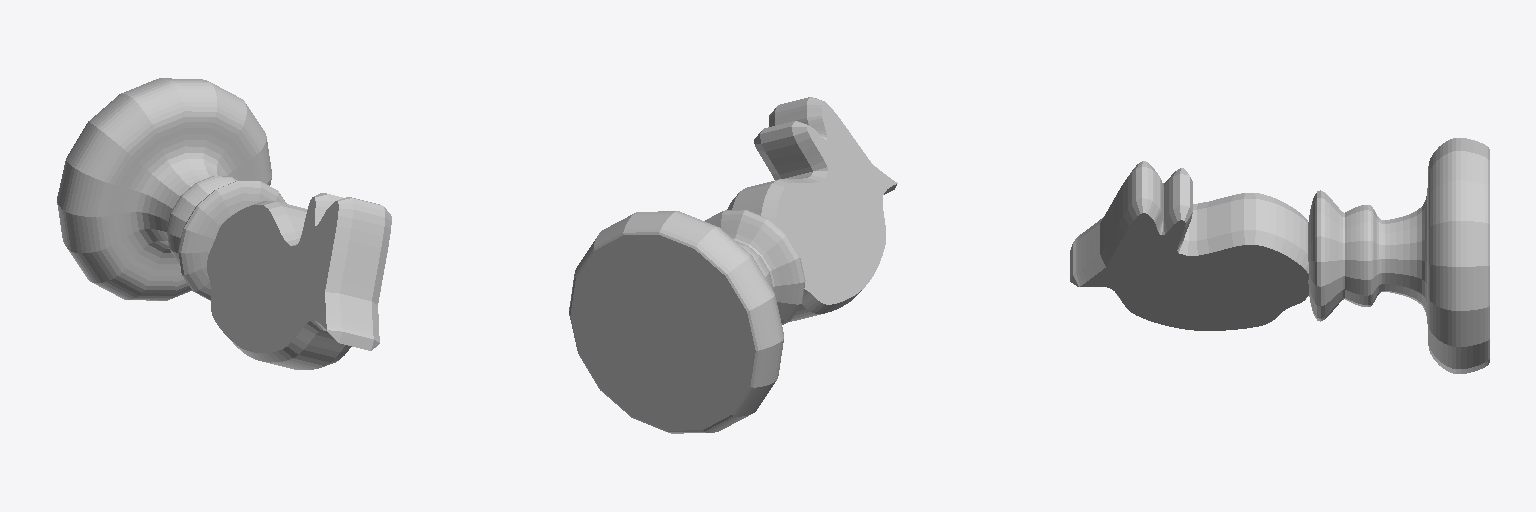
The model's file is knight.obj.
3 renders of one model, left to right at view 1: azimuth 30°, elevation 25°; view 2: azimuth 150°, elevation 25°; view 3: azimuth 270°, elevation 25°, orthographic.
Visible parts, largest first — view 1: Mesh_Mesh.003_White_Hor0, Mesh.001_Mesh.020_White_Had0; view 2: Mesh_Mesh.003_White_Hor0, Mesh.001_Mesh.020_White_Had0; view 3: Mesh.001_Mesh.020_White_Had0, Mesh_Mesh.003_White_Hor0.
Boxes of the visible parts, box(x1,y1,x2,y2) form: Mesh_Mesh.003_White_Hor0: box(57, 78, 286, 300); Mesh.001_Mesh.020_White_Had0: box(207, 193, 391, 369); Mesh_Mesh.003_White_Hor0: box(569, 210, 805, 433); Mesh.001_Mesh.020_White_Had0: box(727, 97, 897, 321); Mesh.001_Mesh.020_White_Had0: box(1070, 161, 1308, 330); Mesh_Mesh.003_White_Hor0: box(1308, 138, 1489, 373).
Bounding box in the file's own units: 38.21 × 38.21 × 67.53.